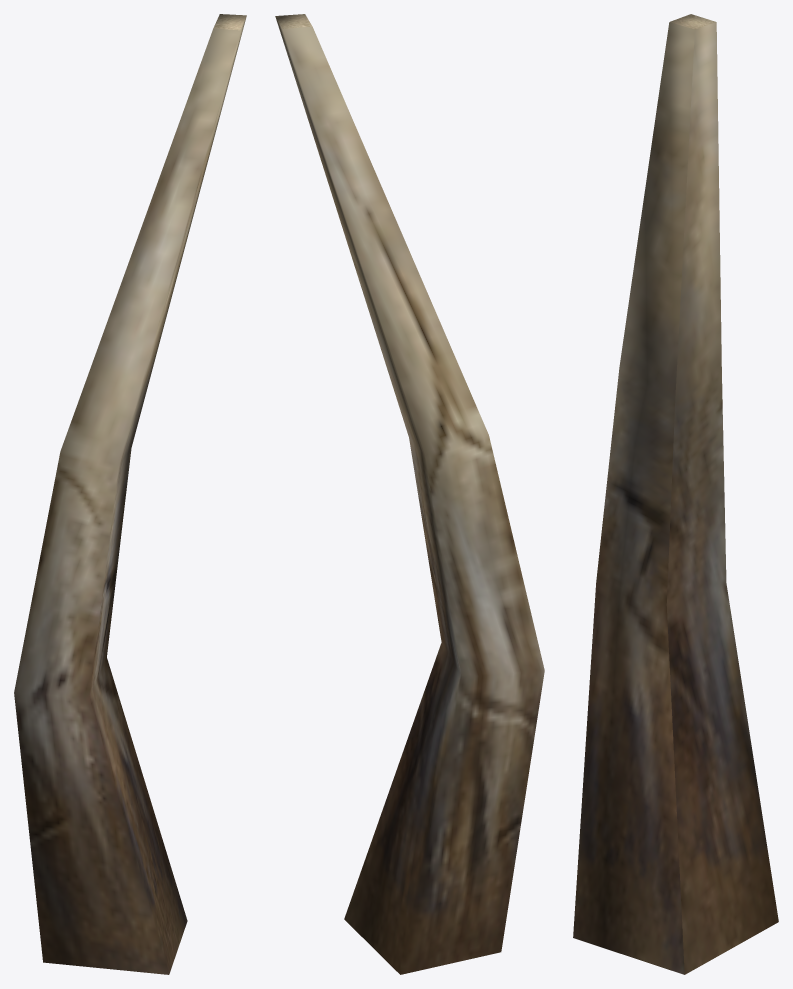
Rendered from D_baigu009.fbx.
3 renders of one model, left to right at view 1: azimuth 30°, elevation 25°; view 2: azimuth 150°, elevation 25°; view 3: azimuth 270°, elevation 25°, orthographic. The views are drawn at different scales.
Visible parts, largest first — view 1: D_baigu009; view 2: D_baigu009; view 3: D_baigu009.
Boxes of the visible parts, left/top/right/bottom form: D_baigu009: left=14, top=14, right=246, bottom=974; D_baigu009: left=275, top=14, right=544, bottom=974; D_baigu009: left=573, top=14, right=778, bottom=974.
Size of the model in its own units: 98.84 by 334 by 63.62.
